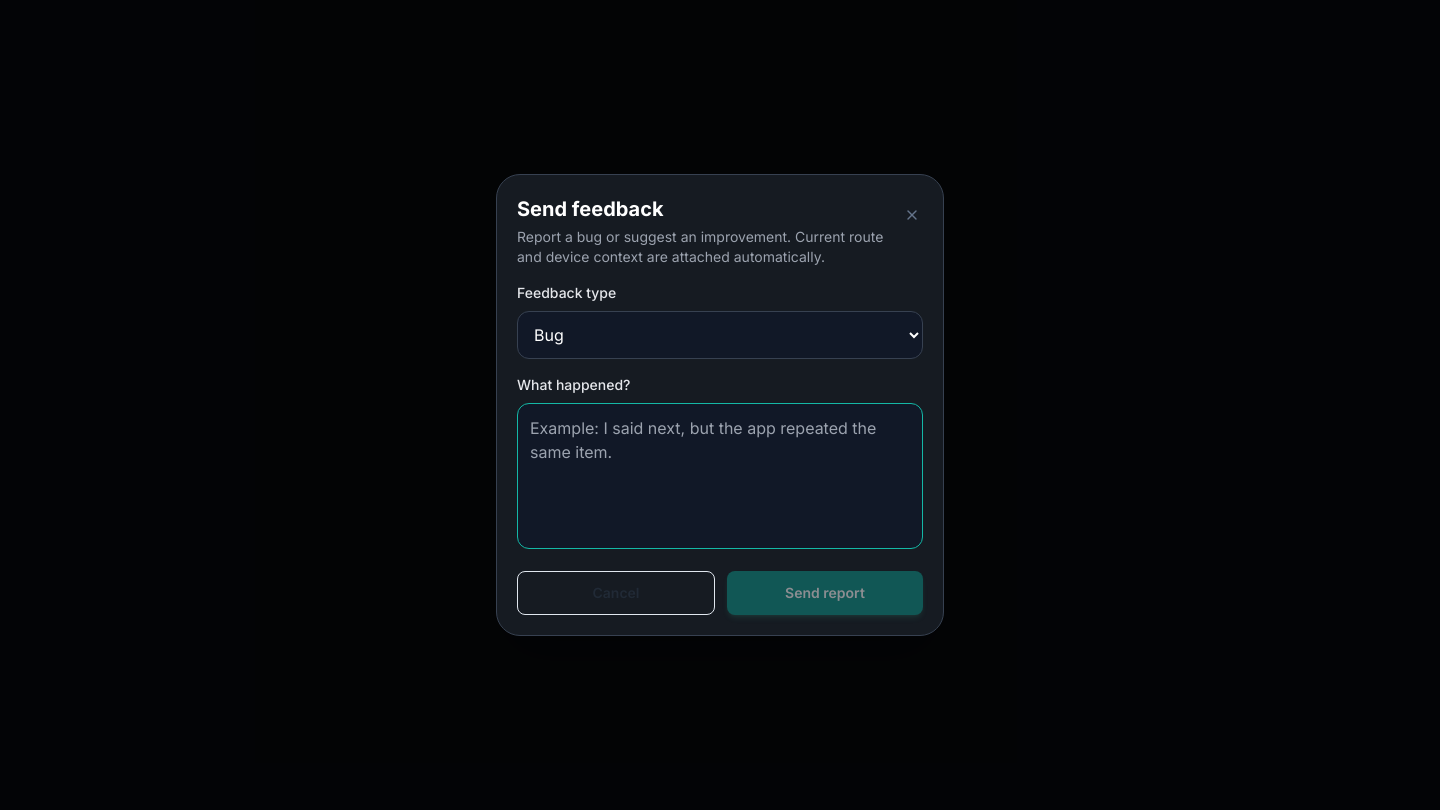
submits feature feedback with the selected category
The image size is (1440, 810).
Select "Feature improvement" in the dropdown labelled "Feedback type" at (720, 335), box [517, 311, 923, 359]
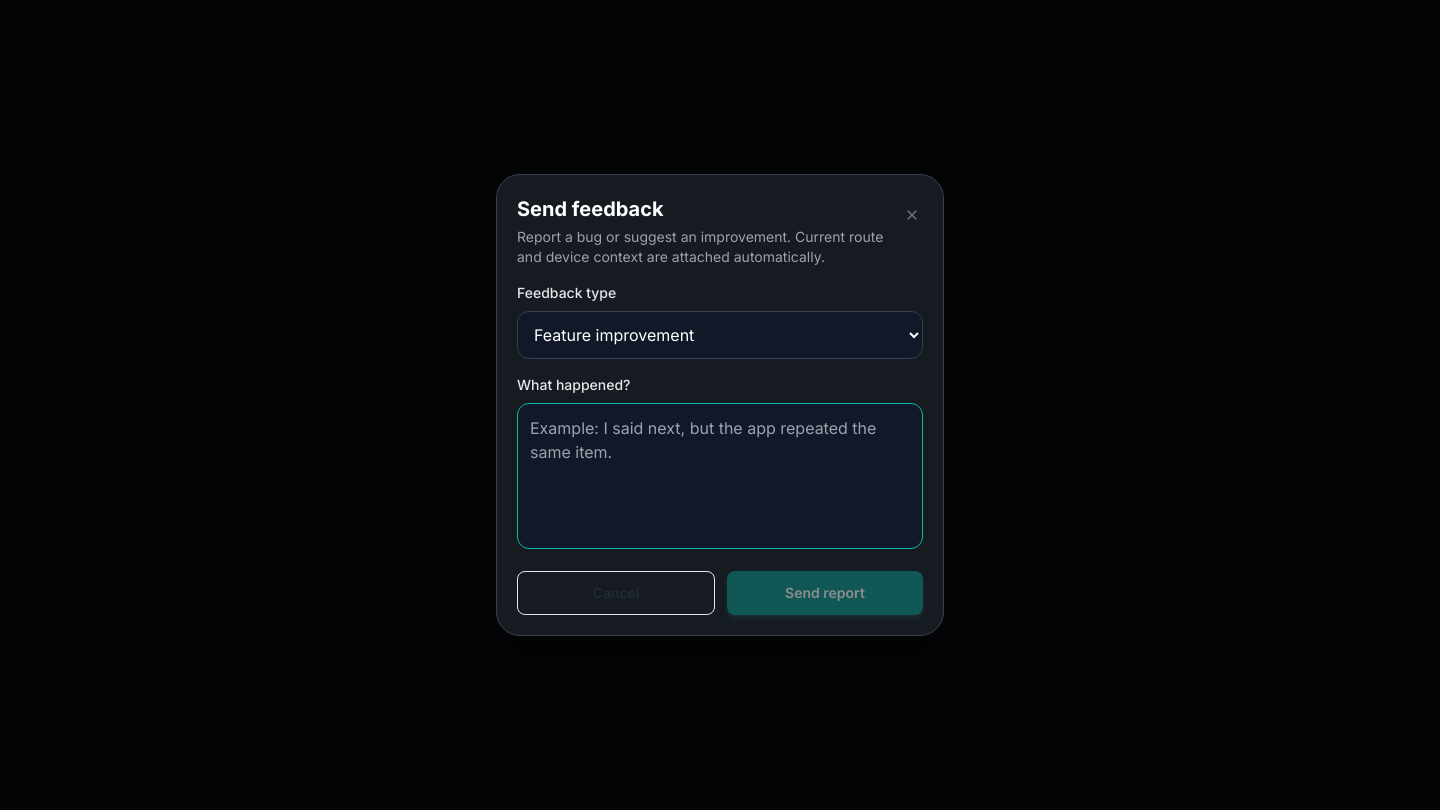
Type "Add another hands-free phrase." into the text box labelled "What happened?".
click(720, 476); type("Add another hands-free phrase.")  # box [517, 403, 923, 549]
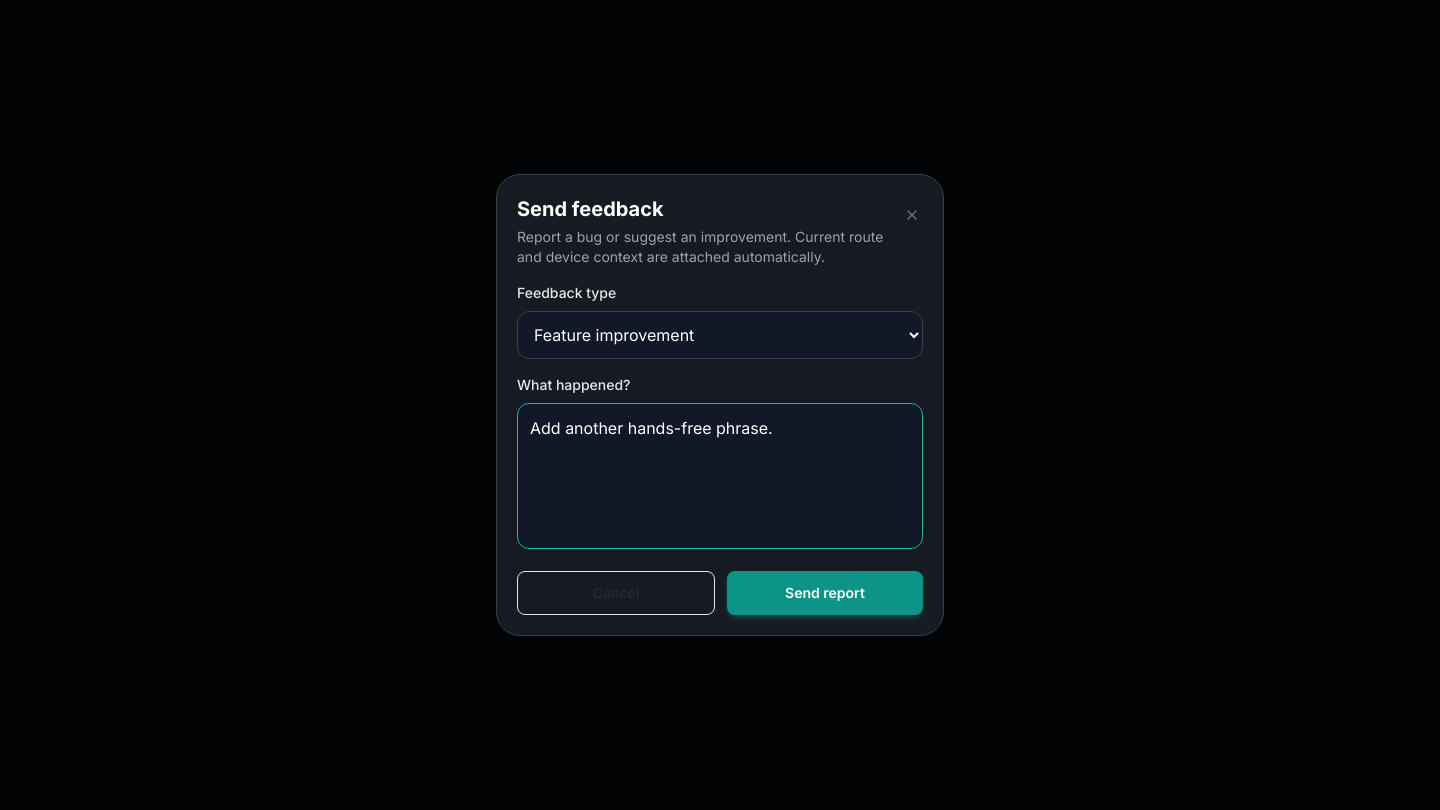
Click the button "Send report".
click(825, 593)  # box [727, 571, 923, 615]
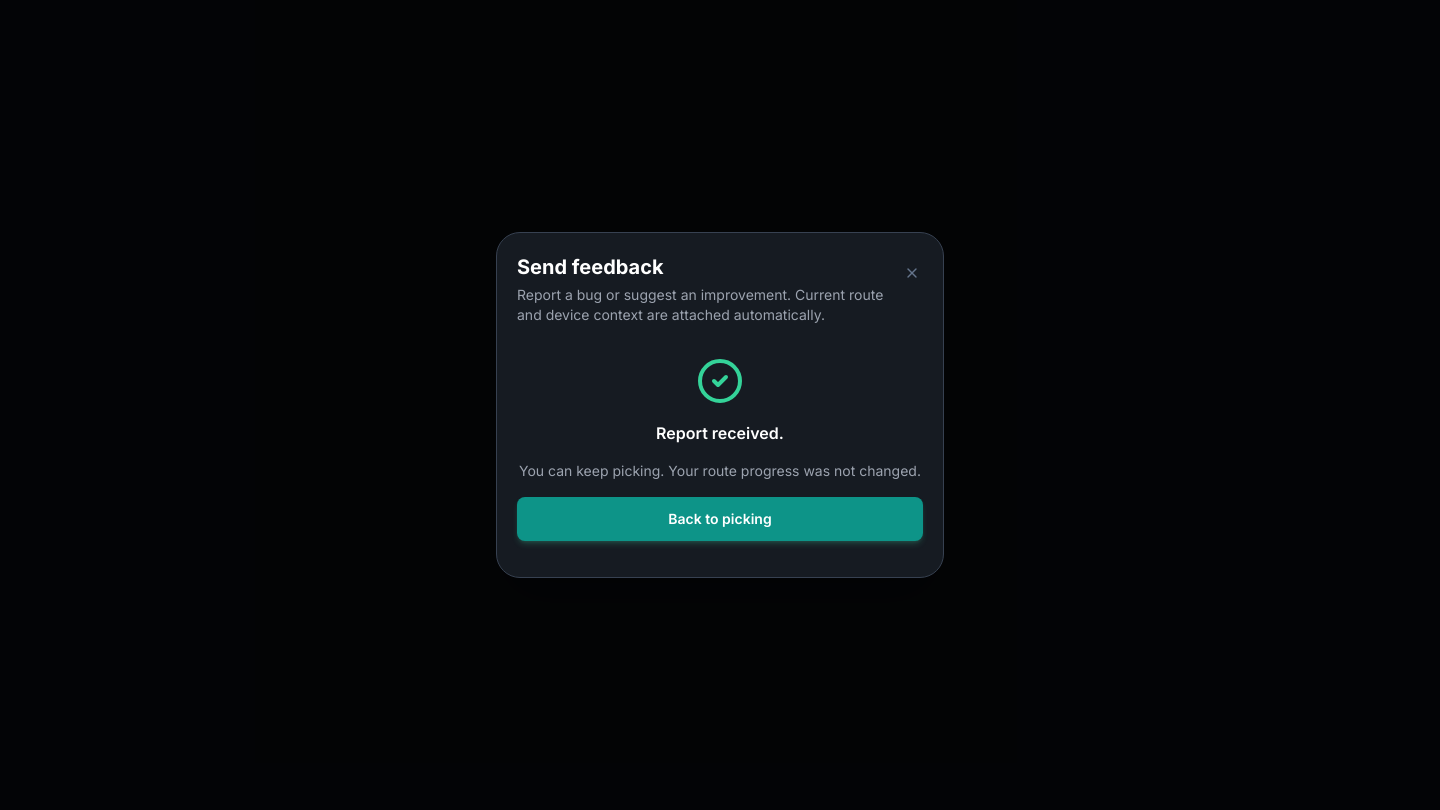
Check: the text "Report received." is shown, box [656, 423, 784, 443]
